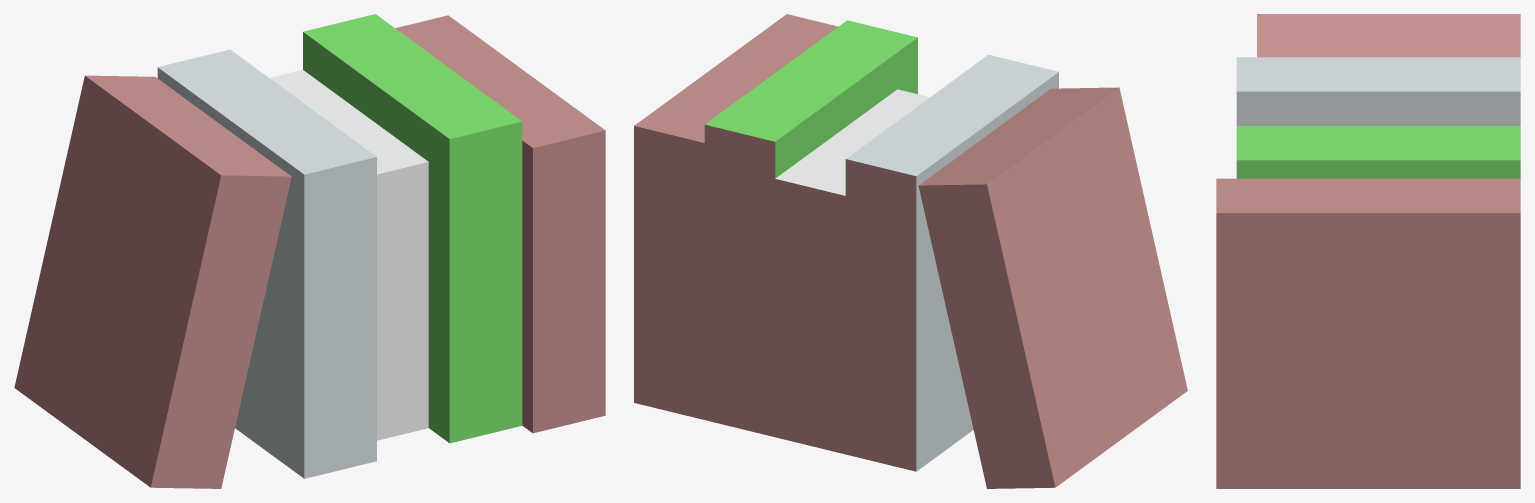
Rendered from k_books.glb.
3 renders of one model, left to right at view 1: azimuth 30°, elevation 25°; view 2: azimuth 150°, elevation 25°; view 3: azimuth 270°, elevation 25°, orthographic. The views are drawn at different scales.
Visible parts, largest first — view 1: books(Clone); view 2: books(Clone); view 3: books(Clone).
Boxes of the visible parts, x1=… form: books(Clone): x1=14, y1=14, x2=605, y2=488; books(Clone): x1=634, y1=14, x2=1187, y2=488; books(Clone): x1=1216, y1=14, x2=1520, y2=488.
Bounding box in the file's own units: 0.3084 × 0.213 × 0.1937.
